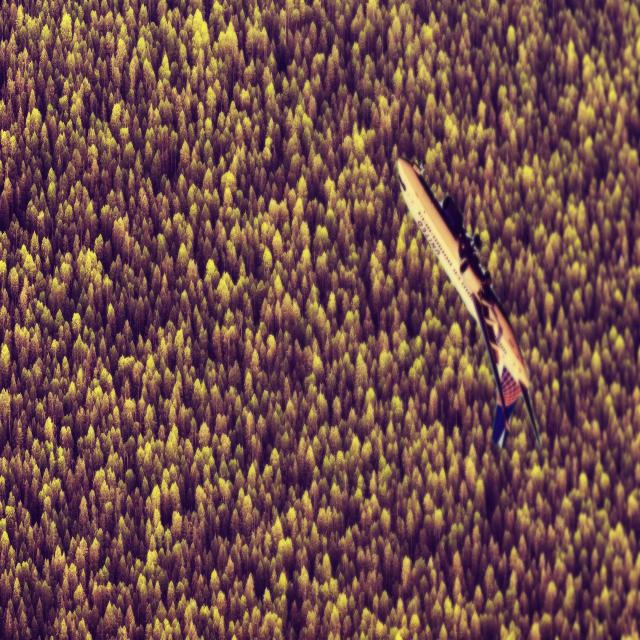airplane: (395, 154, 542, 451)
